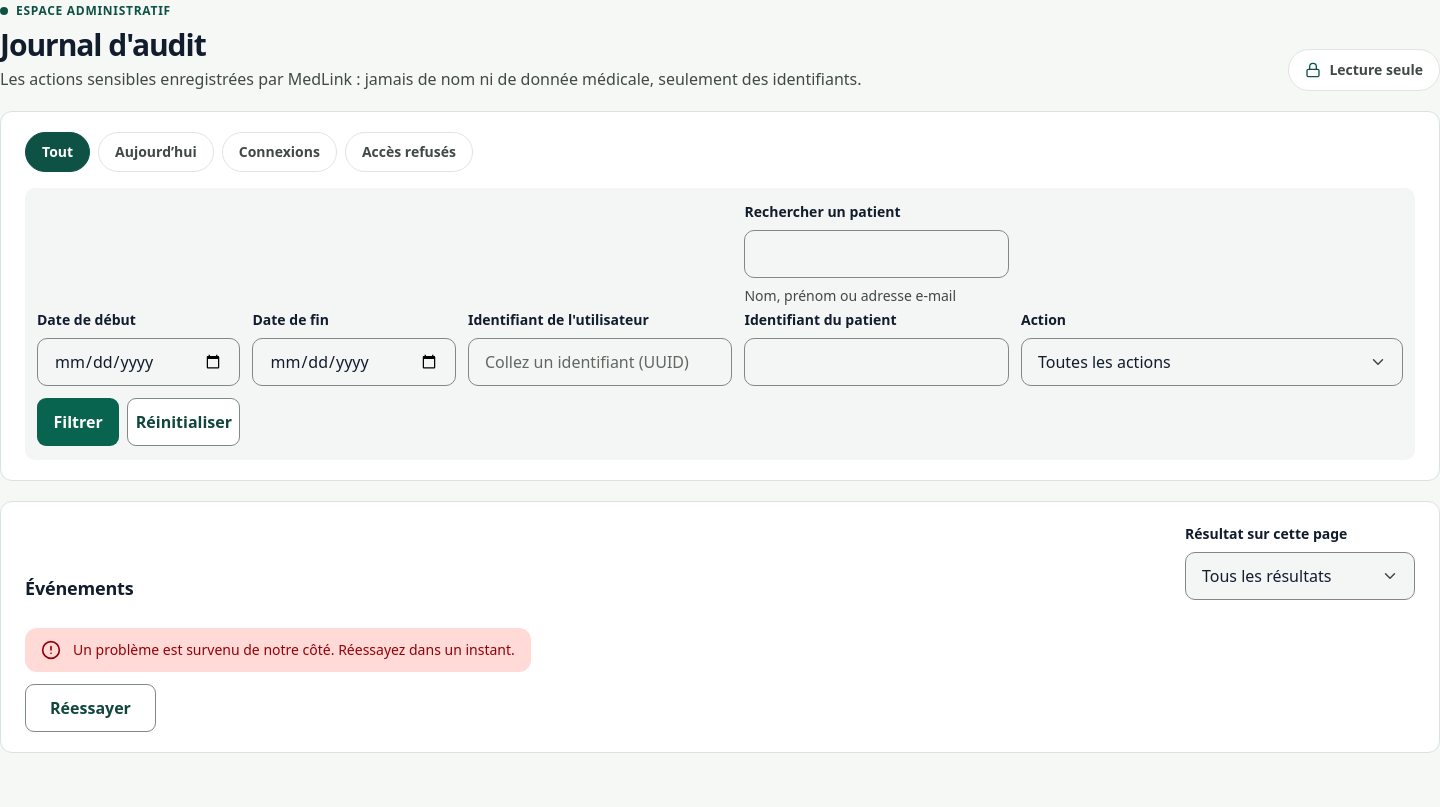
an API failure shows its message, and "Réessayer" asks again
Check: the message shows "Un problème est survenu de notre côté", box x1=73 y1=640 x2=515 y2=659
Click the button "Réessayer": x=90, y=708 x1=25 y1=684 x2=156 y2=732
(page scrolled)
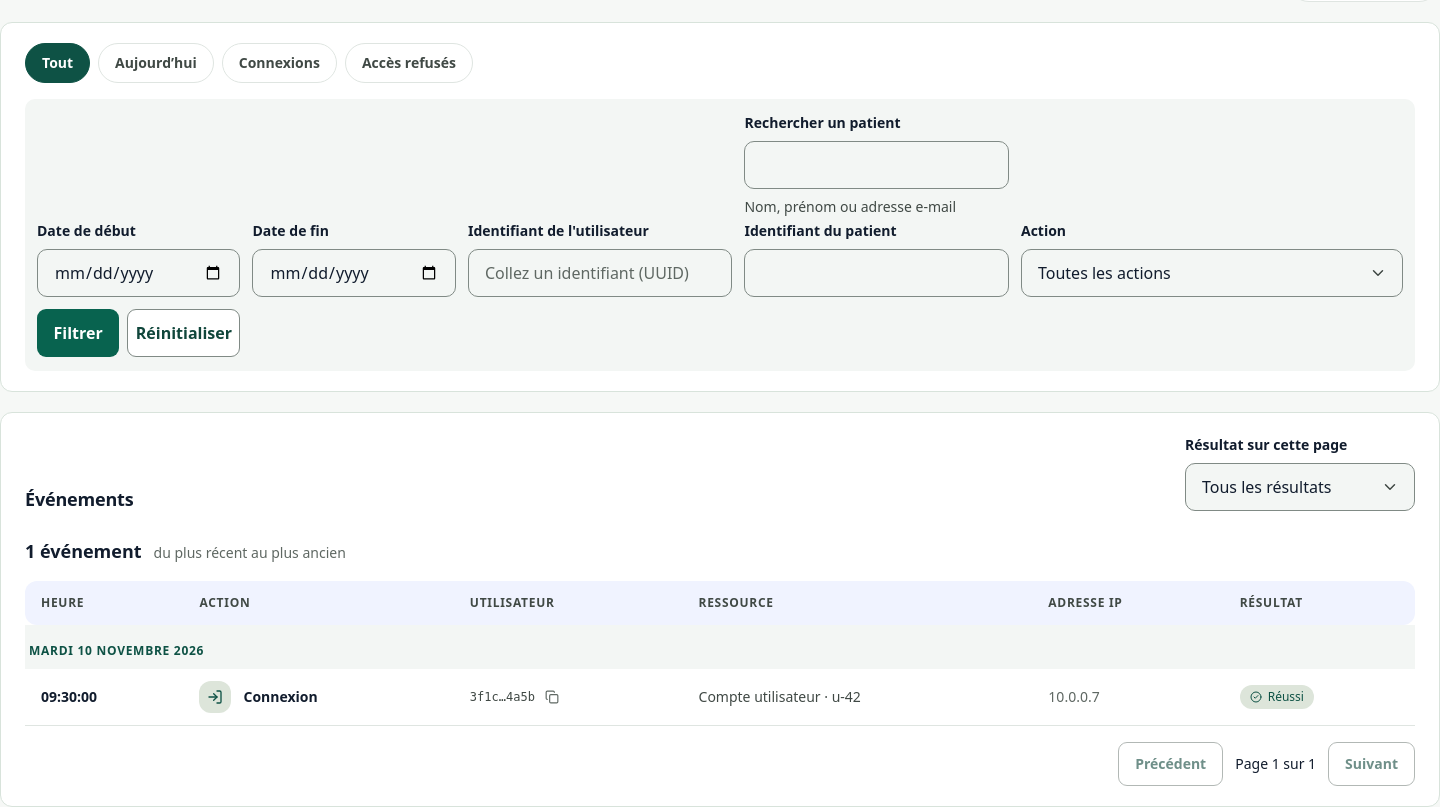
Check: the table is shown, box x1=25 y1=581 x2=1415 y2=726
